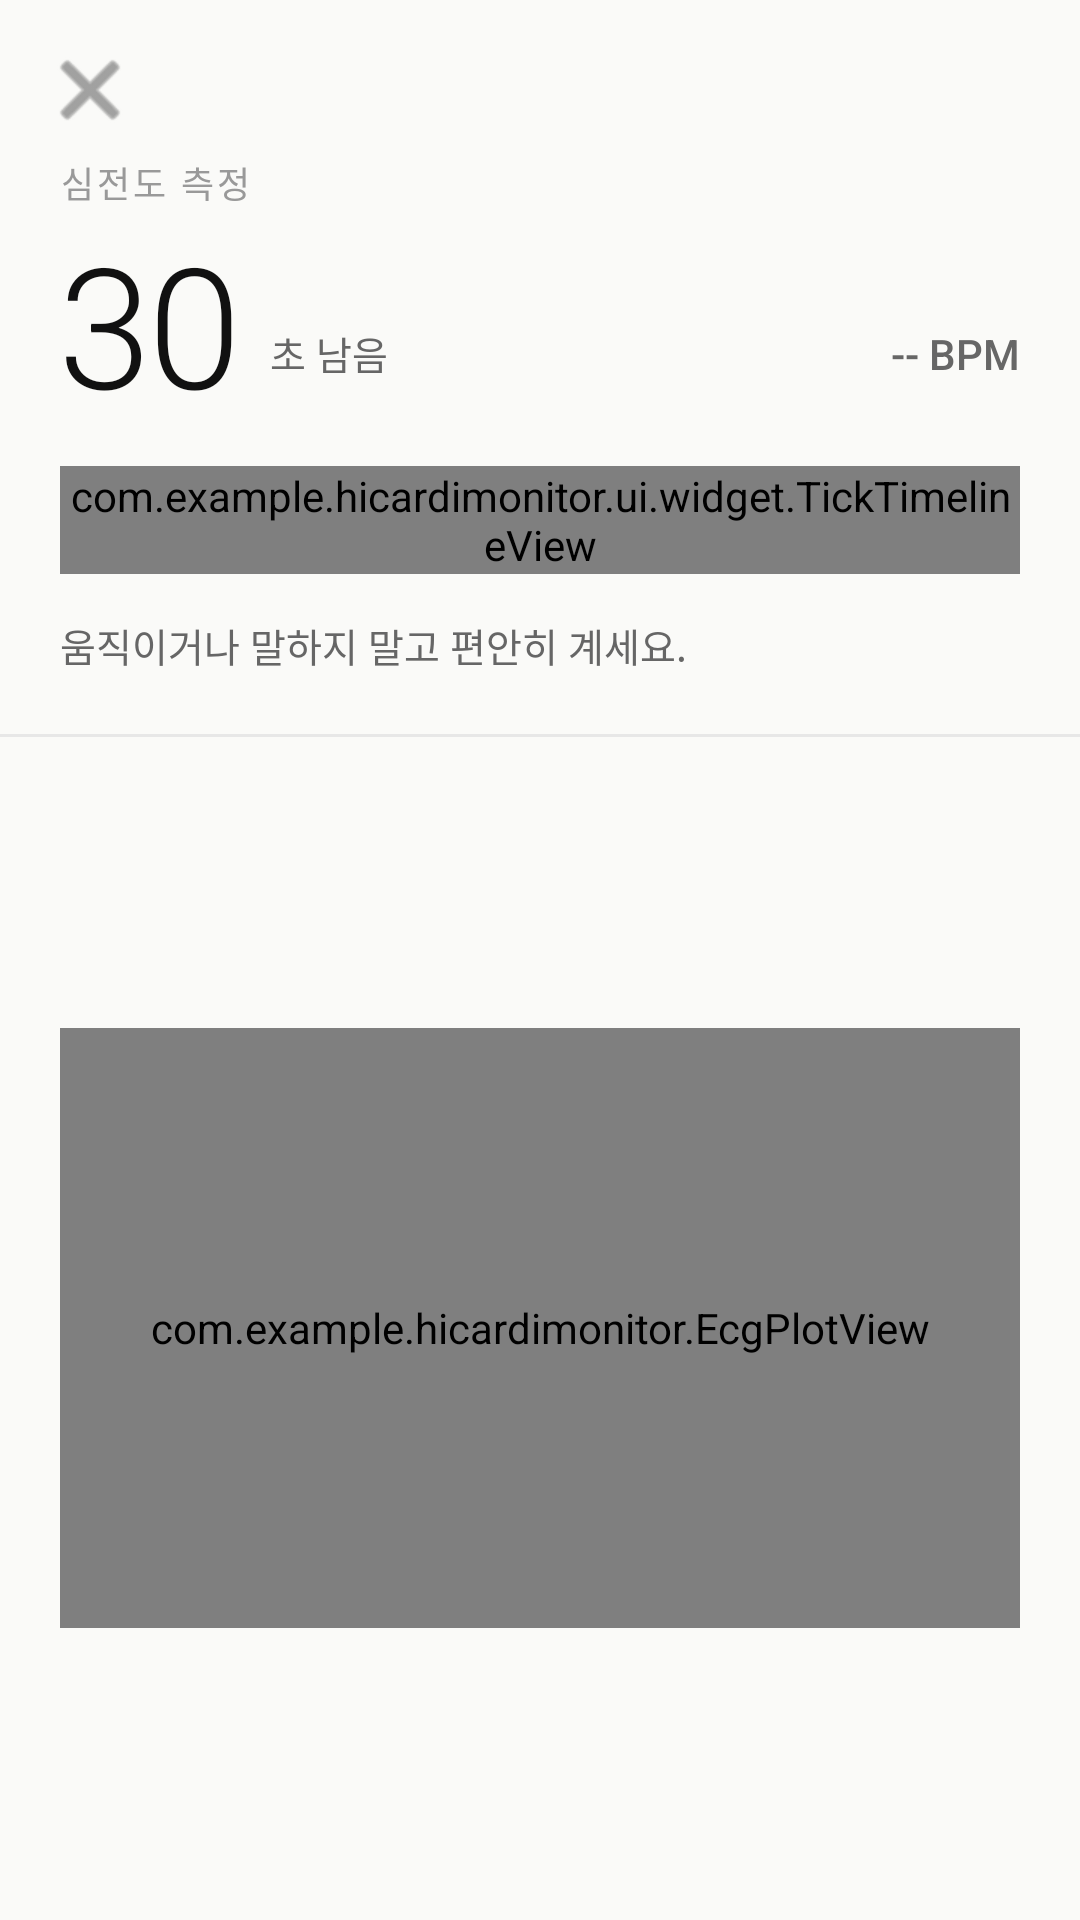

Screen size 1080*1920. Icon name, then its box in pixels as (x1, y1, x2, y2):
닫기: (60, 60, 120, 120)
